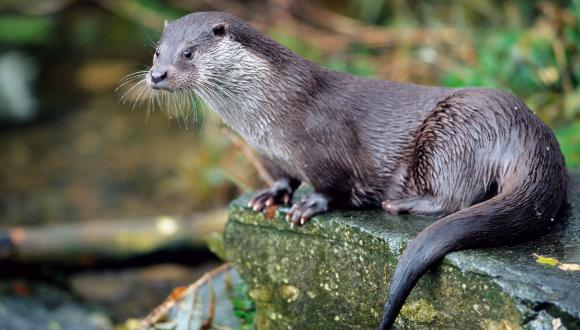otter: (128, 9, 570, 330)
